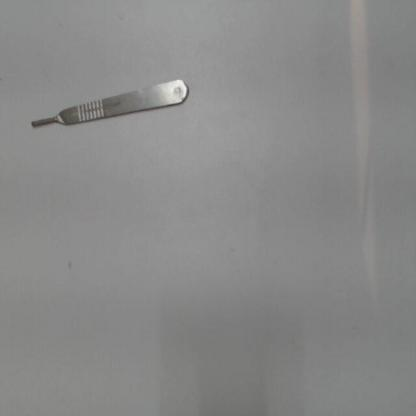No.3 BP Handle: (26, 67, 192, 138)
